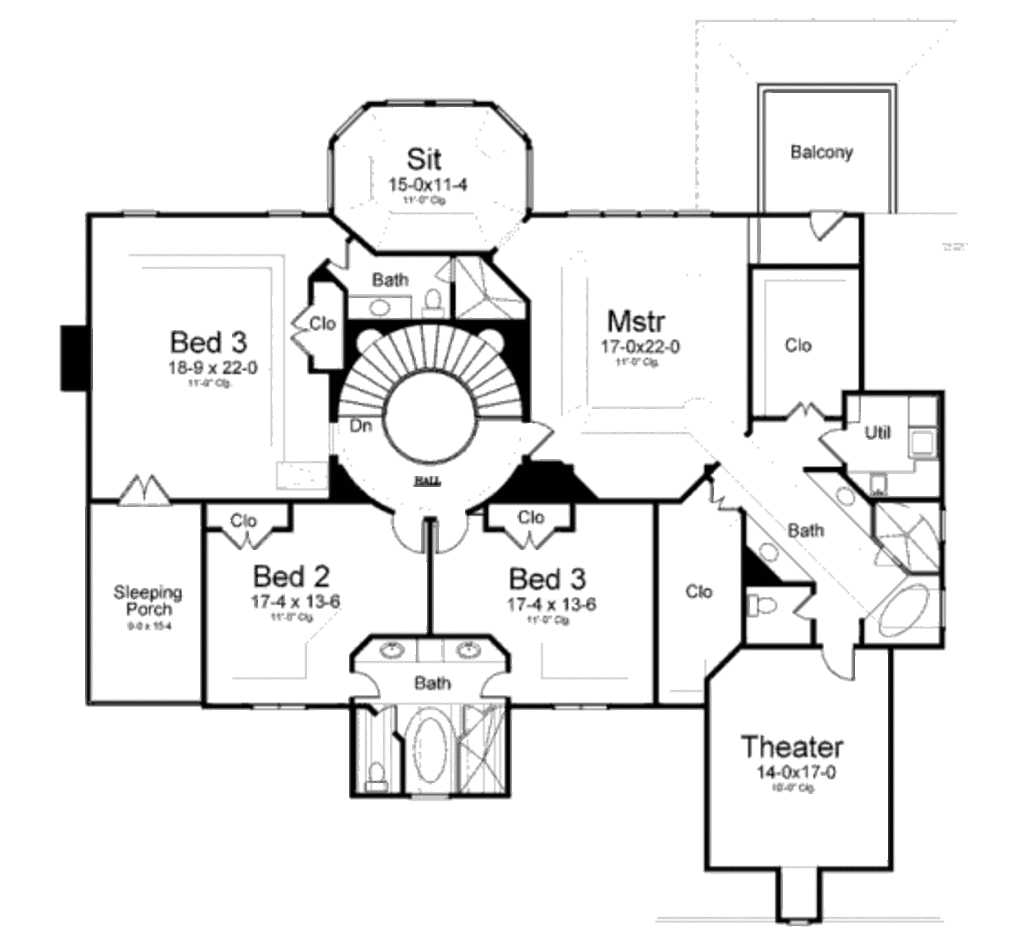door: (495, 524, 561, 557), (118, 472, 171, 511), (434, 511, 476, 557), (387, 513, 429, 558), (707, 475, 745, 523), (804, 204, 851, 242), (217, 523, 273, 553), (289, 301, 318, 357), (816, 646, 856, 686), (349, 669, 388, 699), (780, 397, 824, 420), (792, 588, 816, 620)
large_sink: (351, 758, 396, 800), (742, 587, 783, 627), (410, 287, 446, 319)
small_sink: (816, 471, 869, 517), (747, 523, 794, 572), (437, 635, 503, 666), (345, 295, 418, 323), (355, 636, 422, 666)
stairs: (336, 324, 532, 433)
tub: (864, 574, 935, 647), (399, 705, 457, 793)
window: (248, 700, 309, 714), (547, 702, 617, 714), (265, 204, 304, 225), (118, 206, 158, 223)
